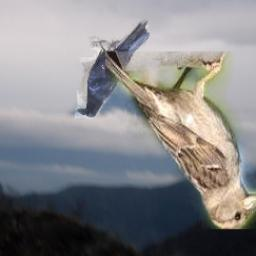Crow: (76, 20, 151, 120)
Sparrow: (105, 53, 256, 230)
